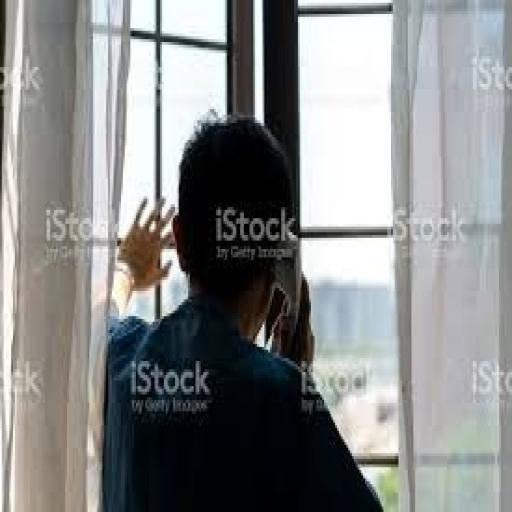calling: (97, 109, 387, 509)
